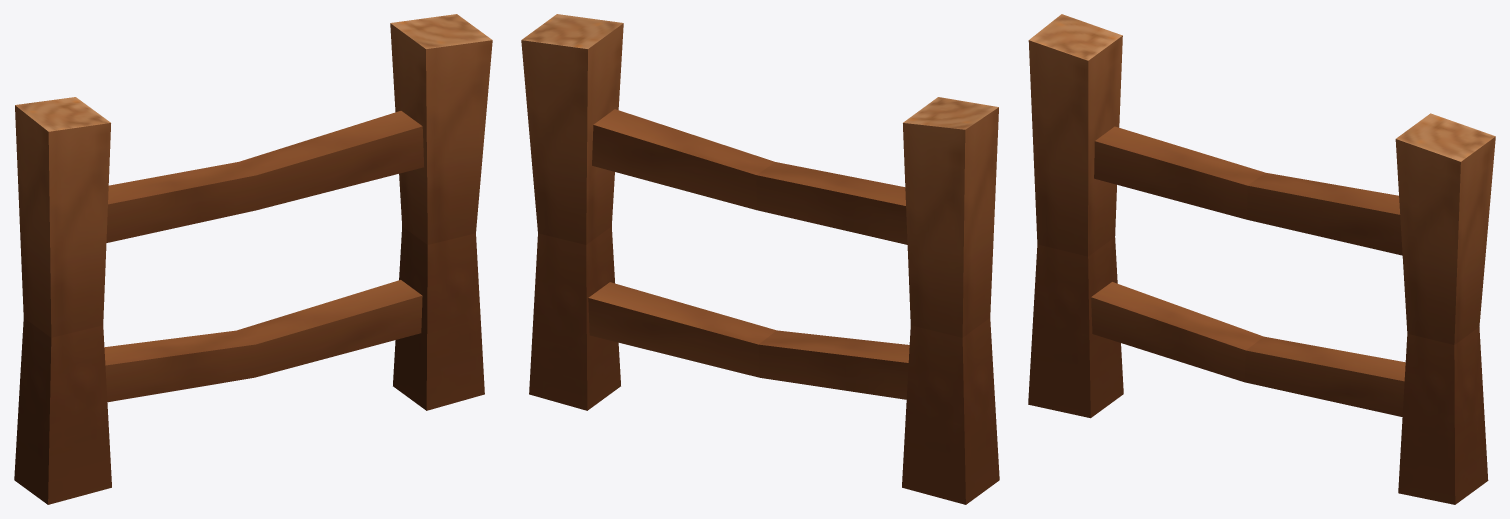
The model's file is fence_07.fbx.
3 views of the same model, side by side, from view 1: azimuth 30°, elevation 25°; view 2: azimuth 150°, elevation 25°; view 3: azimuth 330°, elevation 25° (orthographic). The views are drawn at different scales.
Parts seen in each view (by area): view 1: Cube.013; view 2: Cube.013; view 3: Cube.013.
Part boxes in pixels (x1,y1,x2,y2): Cube.013: [14, 14, 492, 504]; Cube.013: [521, 14, 999, 504]; Cube.013: [1028, 14, 1495, 504].
Size of the model in its own units: 125 by 101 by 17.47.
